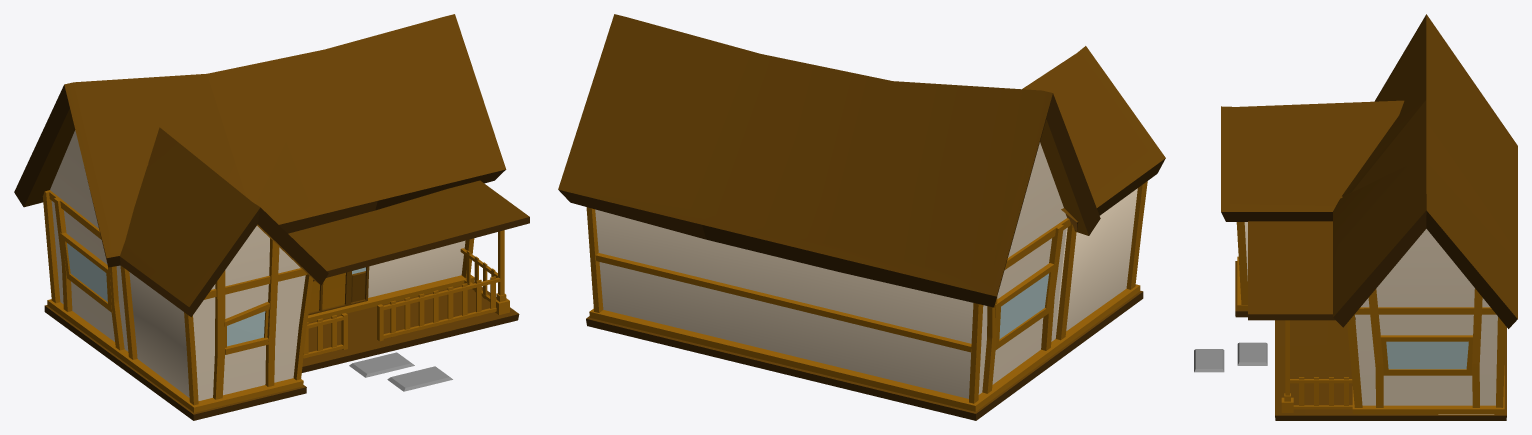
The model's file is Casa_03.fbx.
The picture shows the model from 3 angles, left to right: view 1: azimuth 30°, elevation 25°; view 2: azimuth 150°, elevation 25°; view 3: azimuth 270°, elevation 25°; orthographic projection. The views are drawn at different scales.
Parts seen in each view (by area): view 1: Casa_03, Casa_03_Paredes, Casa_03_Techito, Casa_03_Detalles, Casa_03_Valla, Casa_03_Puerta; view 2: Casa_03, Casa_03_Paredes, Casa_03_Detalles; view 3: Casa_03, Casa_03_Paredes, Casa_03_Techito, Casa_03_Detalles, Casa_03_Valla.
Boxes of the visible parts, box(x1,y1,x2,y2) form: Casa_03: box(14, 14, 506, 391); Casa_03_Paredes: box(44, 130, 519, 420); Casa_03_Techito: box(288, 180, 529, 281); Casa_03_Detalles: box(42, 190, 474, 405); Casa_03_Valla: box(303, 230, 509, 358); Casa_03_Puerta: box(308, 266, 369, 315); Casa_03: box(558, 14, 1165, 349); Casa_03_Paredes: box(586, 142, 1143, 420); Casa_03_Detalles: box(586, 181, 1147, 403); Casa_03: box(1194, 14, 1517, 375); Casa_03_Paredes: box(1235, 222, 1506, 420); Casa_03_Techito: box(1248, 221, 1355, 320); Casa_03_Detalles: box(1236, 222, 1505, 407); Casa_03_Valla: box(1281, 320, 1352, 412).
Bounding box in the file's own units: 36.55 × 23.76 × 28.79.
